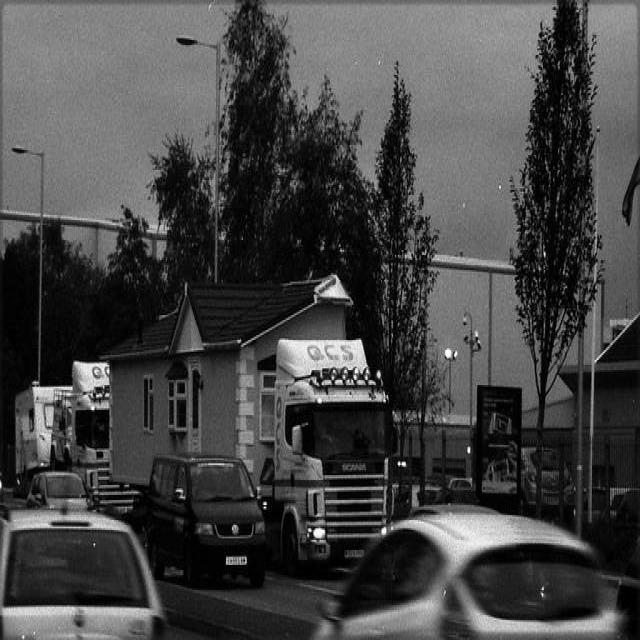vehicle: (305, 505, 627, 635), (254, 338, 394, 574), (1, 511, 172, 640), (141, 452, 271, 590), (49, 362, 144, 516), (520, 447, 576, 529), (25, 470, 100, 511), (582, 487, 638, 520), (393, 487, 412, 518), (447, 477, 474, 493), (425, 478, 439, 486)
